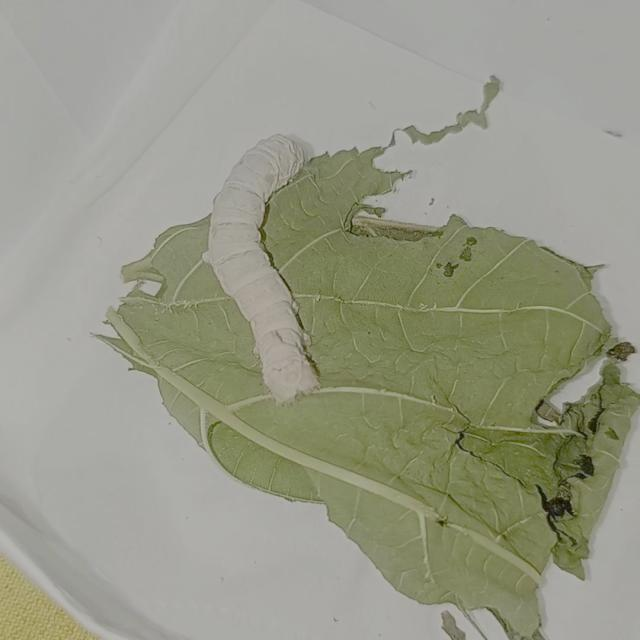Healthy: (199, 111, 380, 418)
